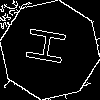H: (25, 25, 76, 68)
